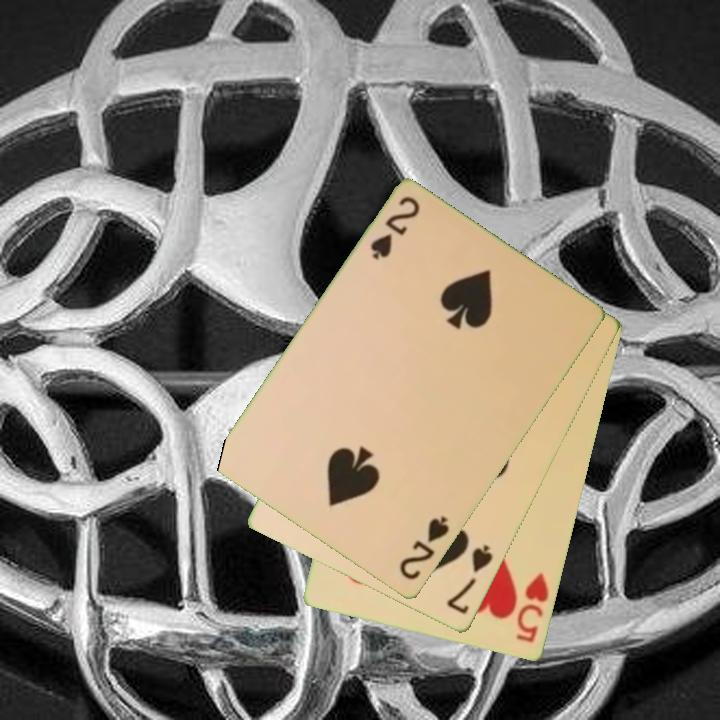2s: (396, 512, 453, 584), (367, 193, 423, 264)
5h: (513, 569, 552, 646)
7s: (443, 541, 497, 618)
